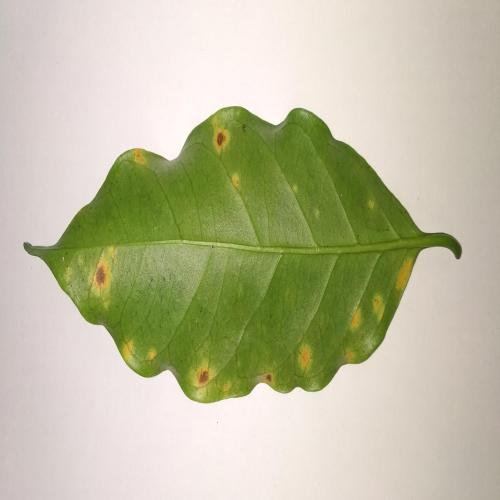phoma: (212, 115, 229, 152)
